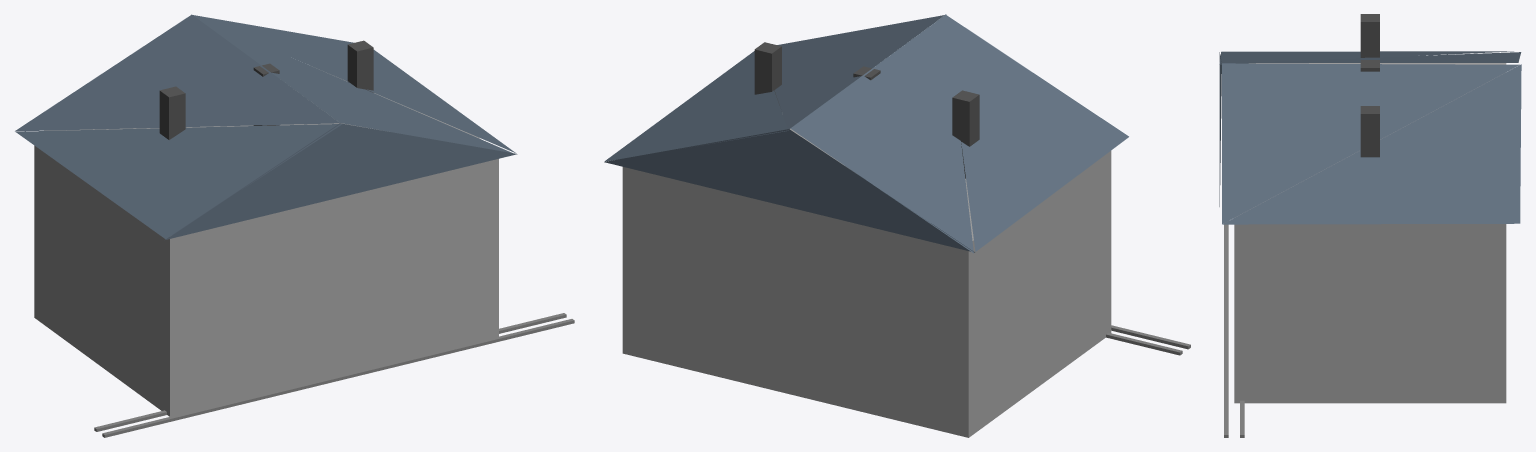
File: workshop_t3.glb
3 views of the same model, side by side, from view 1: azimuth 30°, elevation 25°; view 2: azimuth 150°, elevation 25°; view 3: azimuth 270°, elevation 25° (orthographic). The views are drawn at different scales.
Parts seen in each view (by area): view 1: building-workshop; view 2: building-workshop; view 3: building-workshop.
Part boxes in pixels (left/top/right/bottom): building-workshop: left=15, top=14, right=574, bottom=437; building-workshop: left=604, top=14, right=1190, bottom=437; building-workshop: left=1219, top=14, right=1521, bottom=437.
Bounding box in the file's own units: 0.3408 × 0.1793 × 0.1892.
